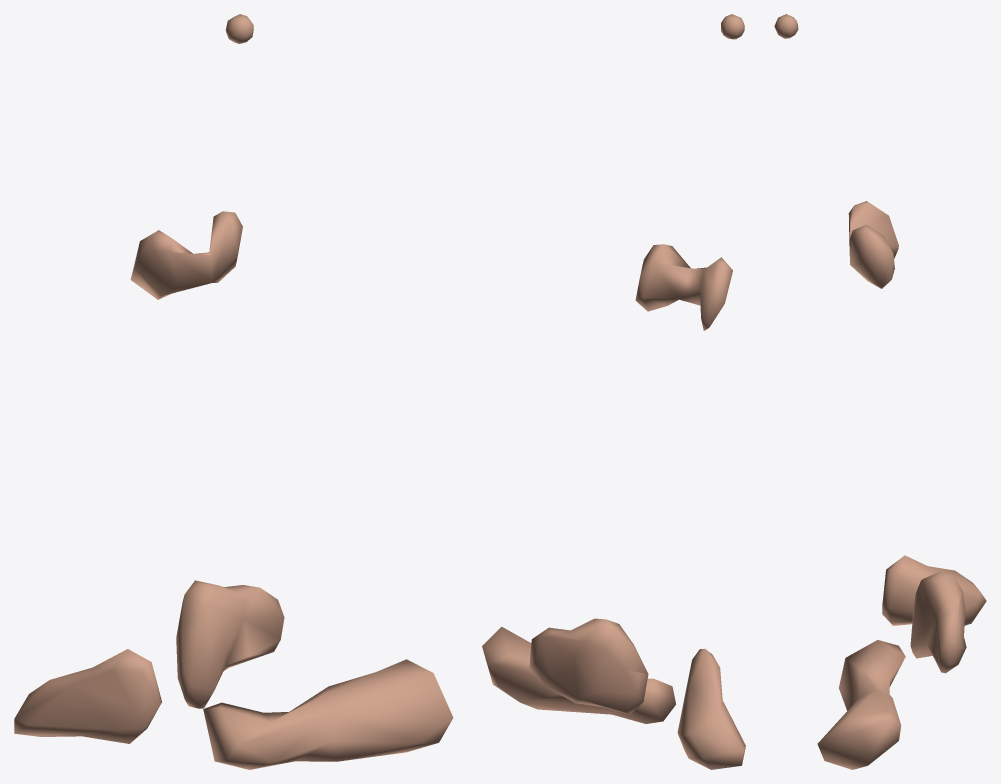
The model's file is pediatric_neonate_female.endocrine.LOD3.glb.
3 renders of one model, left to right at view 1: azimuth 30°, elevation 25°; view 2: azimuth 150°, elevation 25°; view 3: azimuth 270°, elevation 25°, orthographic. The views are drawn at different scales.
Parts seen in each view (by area): view 1: PEDIATRIC.NEONATE.FEMALE.ENDOCRINE.PANCREAS, PEDIATRIC.NEONATE.FEMALE.ENDOCRINE.ADRENAL.R, PEDIATRIC.NEONATE.FEMALE.ENDOCRINE.ADRENAL.L, PEDIATRIC.NEONATE.FEMALE.ENDOCRINE.THYROID; view 2: PEDIATRIC.NEONATE.FEMALE.ENDOCRINE.ADRENAL.L, PEDIATRIC.NEONATE.FEMALE.ENDOCRINE.PANCREAS, PEDIATRIC.NEONATE.FEMALE.ENDOCRINE.ADRENAL.R, PEDIATRIC.NEONATE.FEMALE.ENDOCRINE.THYROID, PEDIATRIC.NEONATE.FEMALE.ENDOCRINE.PITUITARY_GLAND; view 3: PEDIATRIC.NEONATE.FEMALE.ENDOCRINE.PANCREAS, PEDIATRIC.NEONATE.FEMALE.ENDOCRINE.ADRENAL.L, PEDIATRIC.NEONATE.FEMALE.ENDOCRINE.THYROID, PEDIATRIC.NEONATE.FEMALE.ENDOCRINE.ADRENAL.R, PEDIATRIC.NEONATE.FEMALE.ENDOCRINE.PITUITARY_GLAND.
Part boxes in pixels (bbox=[...]): PEDIATRIC.NEONATE.FEMALE.ENDOCRINE.PANCREAS: bbox=[203, 659, 453, 769]; PEDIATRIC.NEONATE.FEMALE.ENDOCRINE.ADRENAL.R: bbox=[14, 649, 161, 743]; PEDIATRIC.NEONATE.FEMALE.ENDOCRINE.ADRENAL.L: bbox=[176, 580, 284, 708]; PEDIATRIC.NEONATE.FEMALE.ENDOCRINE.THYROID: bbox=[130, 211, 242, 299]; PEDIATRIC.NEONATE.FEMALE.ENDOCRINE.ADRENAL.L: bbox=[529, 618, 648, 714]; PEDIATRIC.NEONATE.FEMALE.ENDOCRINE.PANCREAS: bbox=[482, 626, 675, 723]; PEDIATRIC.NEONATE.FEMALE.ENDOCRINE.ADRENAL.R: bbox=[677, 648, 745, 769]; PEDIATRIC.NEONATE.FEMALE.ENDOCRINE.THYROID: bbox=[635, 244, 732, 330]; PEDIATRIC.NEONATE.FEMALE.ENDOCRINE.PITUITARY_GLAND: bbox=[721, 14, 744, 39]; PEDIATRIC.NEONATE.FEMALE.ENDOCRINE.PANCREAS: bbox=[817, 640, 905, 769]; PEDIATRIC.NEONATE.FEMALE.ENDOCRINE.ADRENAL.L: bbox=[910, 572, 966, 673]; PEDIATRIC.NEONATE.FEMALE.ENDOCRINE.THYROID: bbox=[848, 201, 898, 288]; PEDIATRIC.NEONATE.FEMALE.ENDOCRINE.ADRENAL.R: bbox=[882, 555, 986, 625]; PEDIATRIC.NEONATE.FEMALE.ENDOCRINE.PITUITARY_GLAND: bbox=[774, 14, 798, 38].
Bounding box in the file's own units: 0.0857 × 0.1857 × 0.0532.
